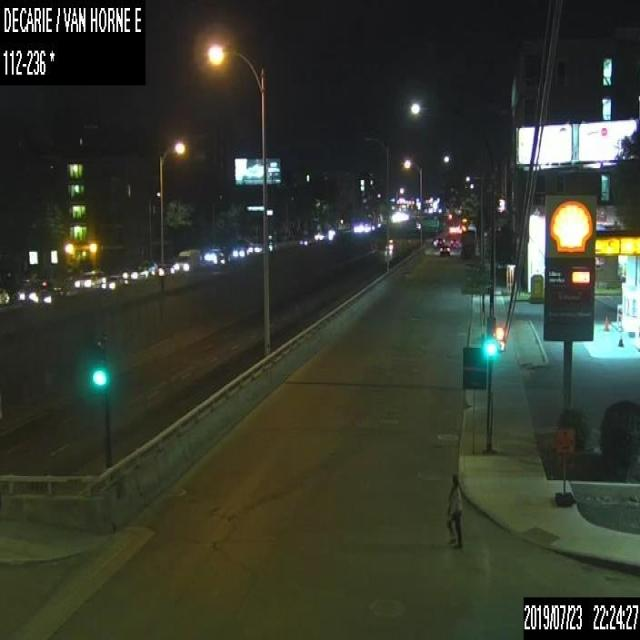construction: (552, 425, 574, 504), (617, 329, 623, 346), (603, 313, 608, 330)
pedestrian: (444, 472, 464, 549)
vehicle: (13, 280, 50, 301), (71, 268, 105, 287), (173, 248, 200, 270), (459, 228, 475, 257), (149, 262, 174, 274), (102, 273, 120, 289), (232, 243, 246, 257), (248, 242, 262, 253), (434, 233, 444, 247), (385, 238, 397, 249), (440, 242, 450, 255), (268, 239, 276, 254), (313, 230, 324, 240), (298, 235, 310, 244), (450, 237, 458, 247)
